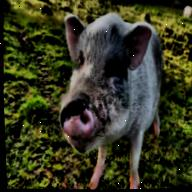boar: (52, 8, 170, 191), (182, 6, 192, 18)
